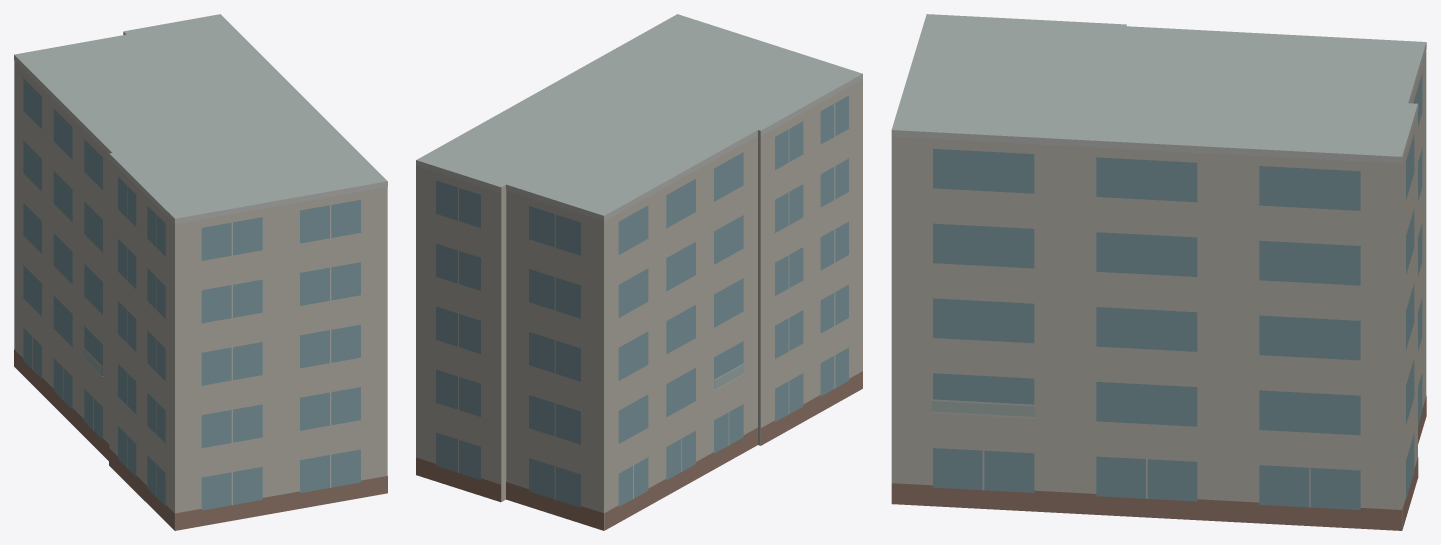
The model's file is survey-upis-32636386.glb.
3 views of the same model, side by side, from view 1: azimuth 30°, elevation 25°; view 2: azimuth 150°, elevation 25°; view 3: azimuth 270°, elevation 25° (orthographic). The views are drawn at different scales.
Visible parts, largest first — view 1: survey-upis-32636386.tmp; view 2: survey-upis-32636386.tmp; view 3: survey-upis-32636386.tmp.
Part boxes in pixels (box(x1,y1,x2,y2)): survey-upis-32636386.tmp: box(14, 14, 387, 530); survey-upis-32636386.tmp: box(416, 14, 862, 530); survey-upis-32636386.tmp: box(891, 14, 1426, 530).
Size of the model in its own units: 11.27 by 13.75 by 17.83.
